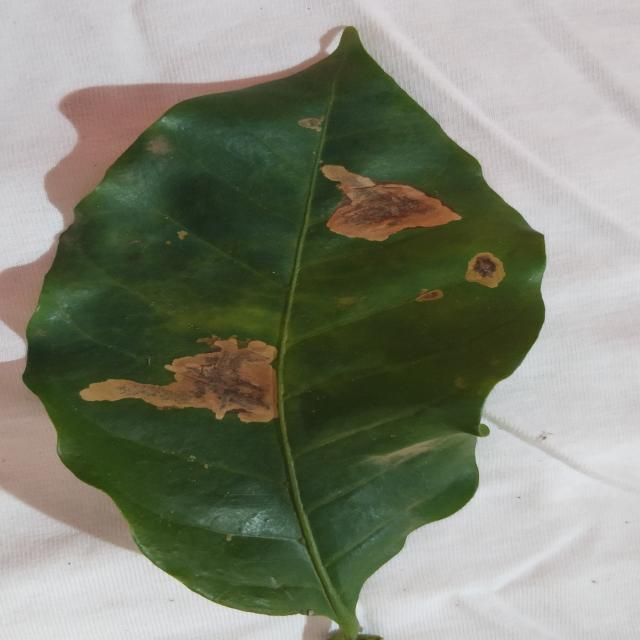Plaga-Minador: (22, 27, 543, 640)
